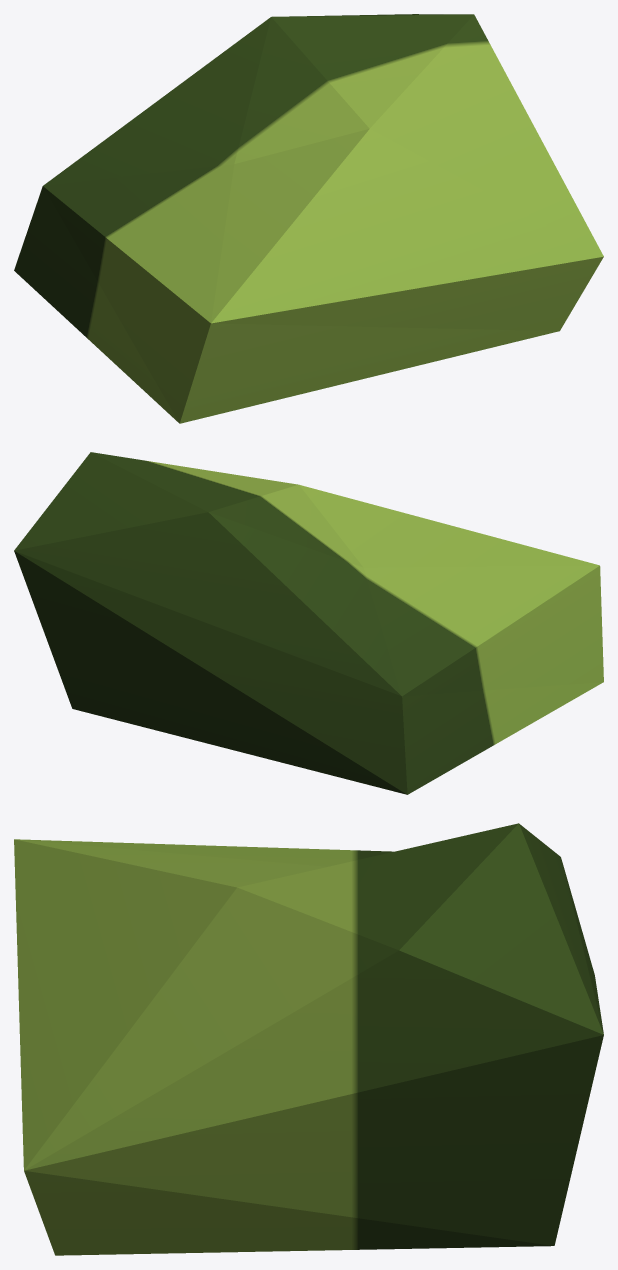
File: Rock_16.fbx
3 renders of one model, top to bottom at view 1: azimuth 30°, elevation 25°; view 2: azimuth 150°, elevation 25°; view 3: azimuth 270°, elevation 25°, orthographic. The views are drawn at different scales.
Visible parts, largest first — view 1: Rock_16; view 2: Rock_16; view 3: Rock_16.
Part boxes in pixels (left/top/right/bottom): Rock_16: left=14, top=14, right=603, bottom=423; Rock_16: left=14, top=452, right=603, bottom=794; Rock_16: left=14, top=823, right=603, bottom=1255.
Size of the model in its own units: 1.16 by 0.6085 by 0.9608.
